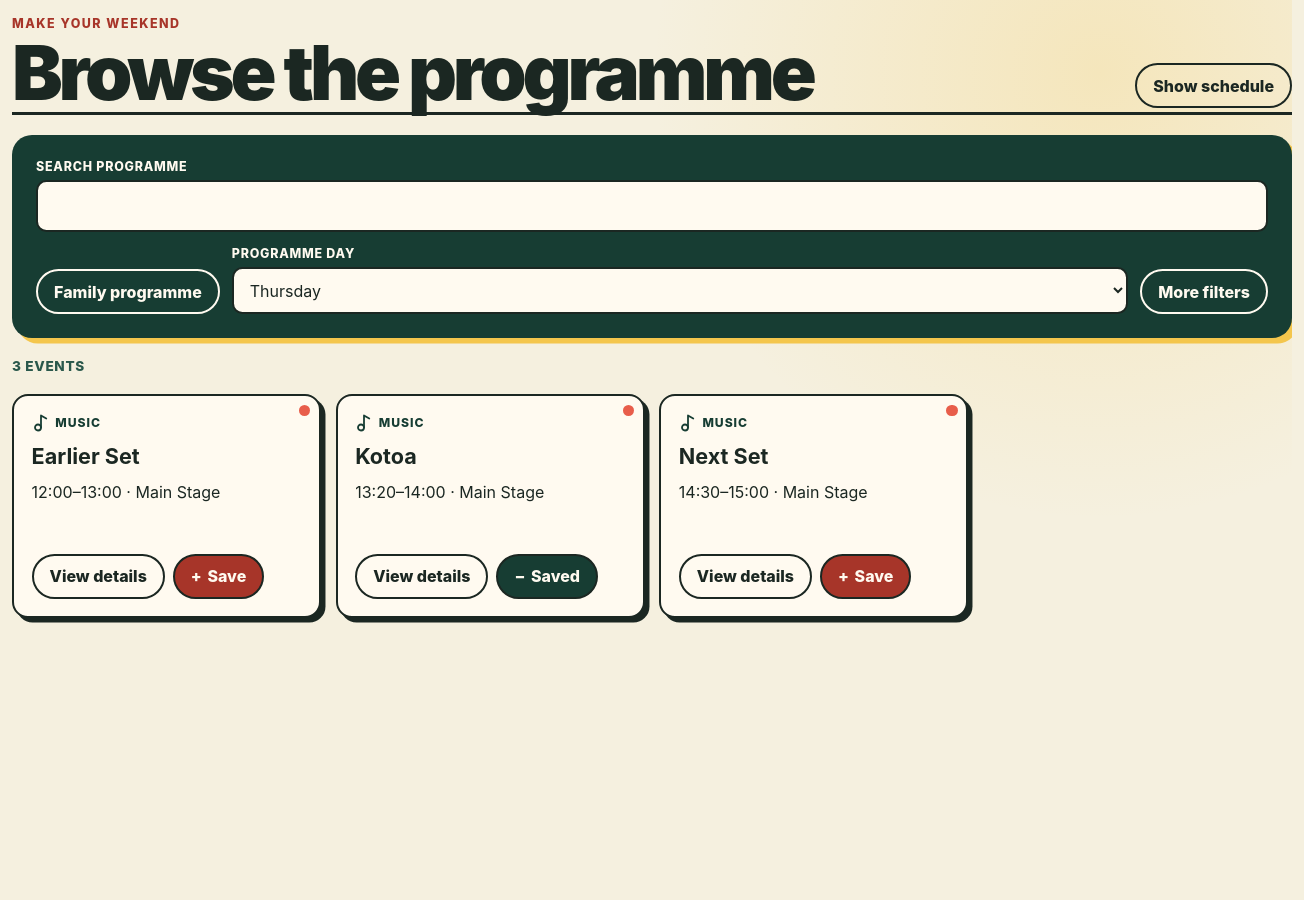
Scenario: BrowseView › renders a live phone day schedule with saved and earlier controls
Click the button "Show schedule": point(1214, 86) [1135,63,1292,108]
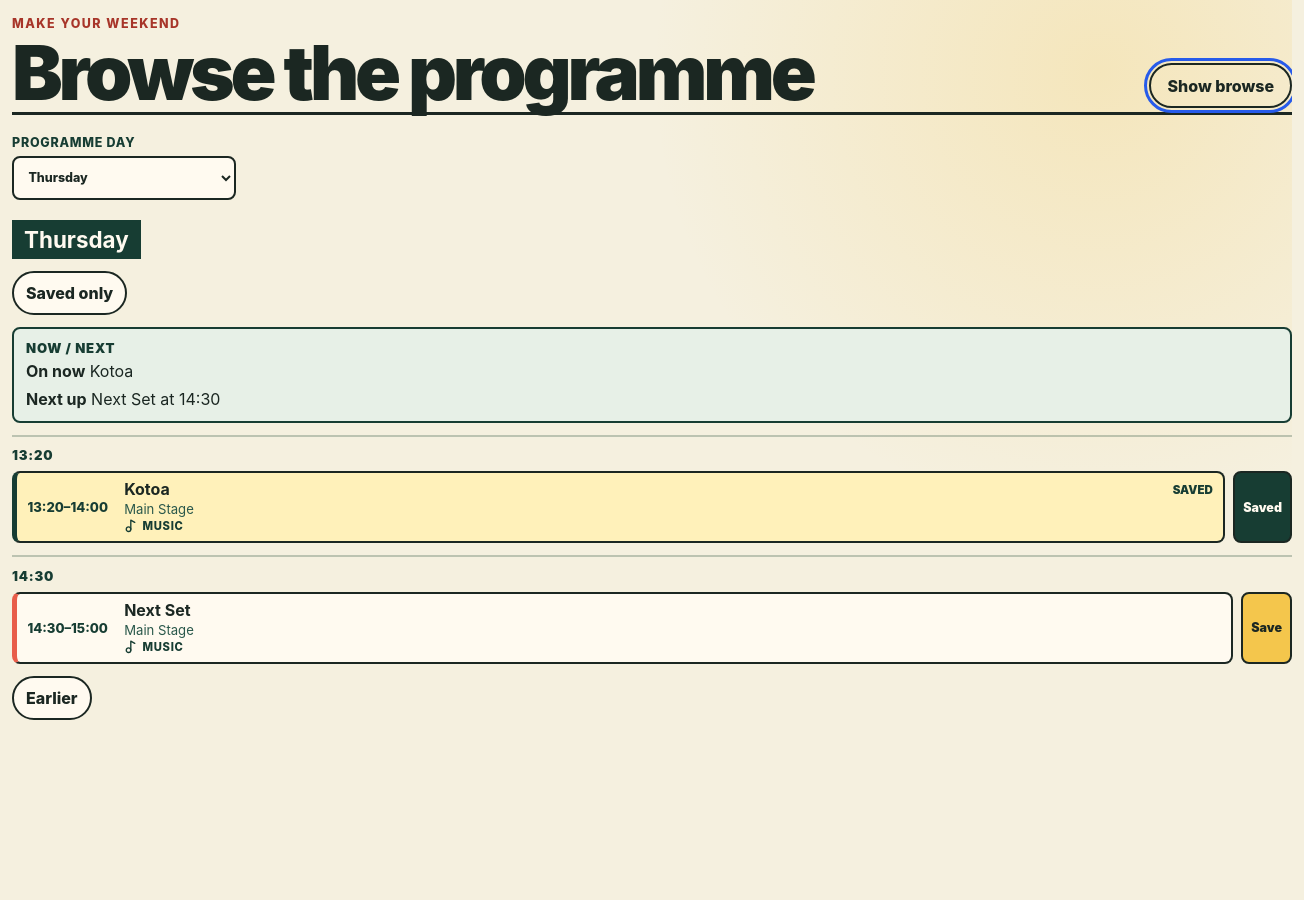
Now the heading "Now / next" is shown, box [26,340,115,356]
Now the text "On now" is shown, box [26,361,85,381]
Now the text "Next up" is shown, box [26,388,87,408]
Click the button "Saved only": point(70, 293) [12,271,127,315]
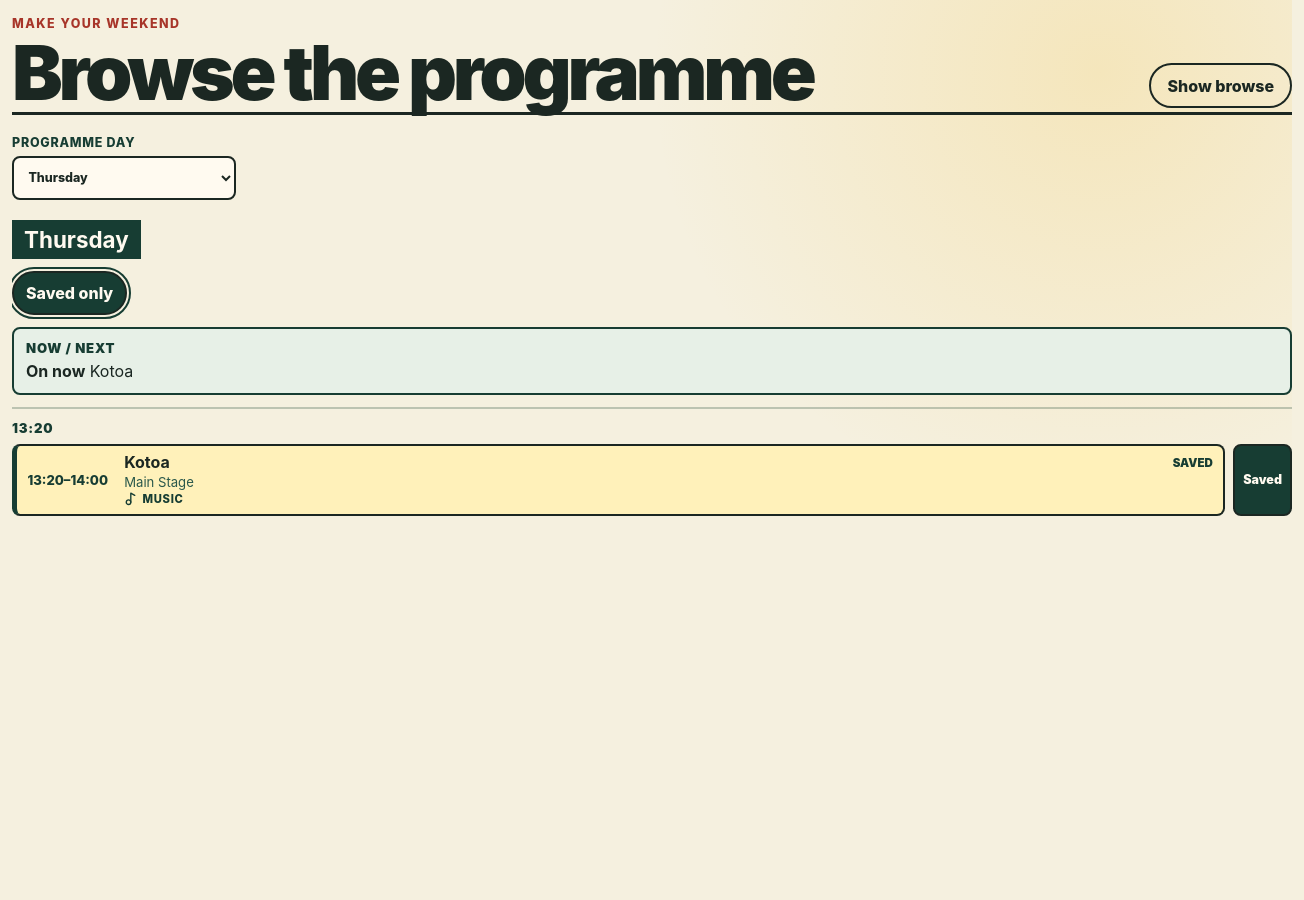
Expected: the text labelled "Search programme" is not shown
Click the button "Saved only": point(70, 293) [12,271,127,315]
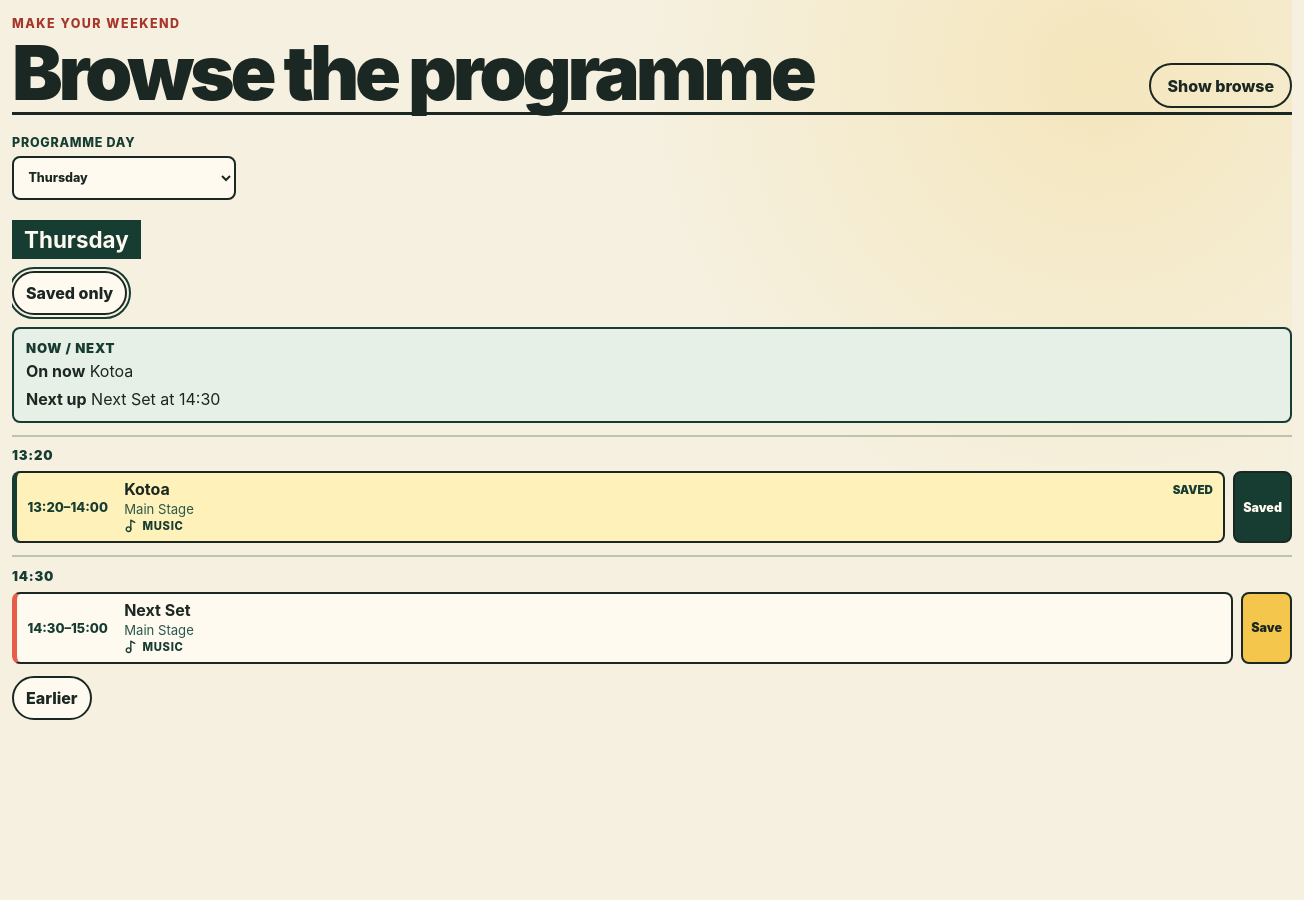
Click the button "Earlier": point(52, 698) [12,676,92,720]
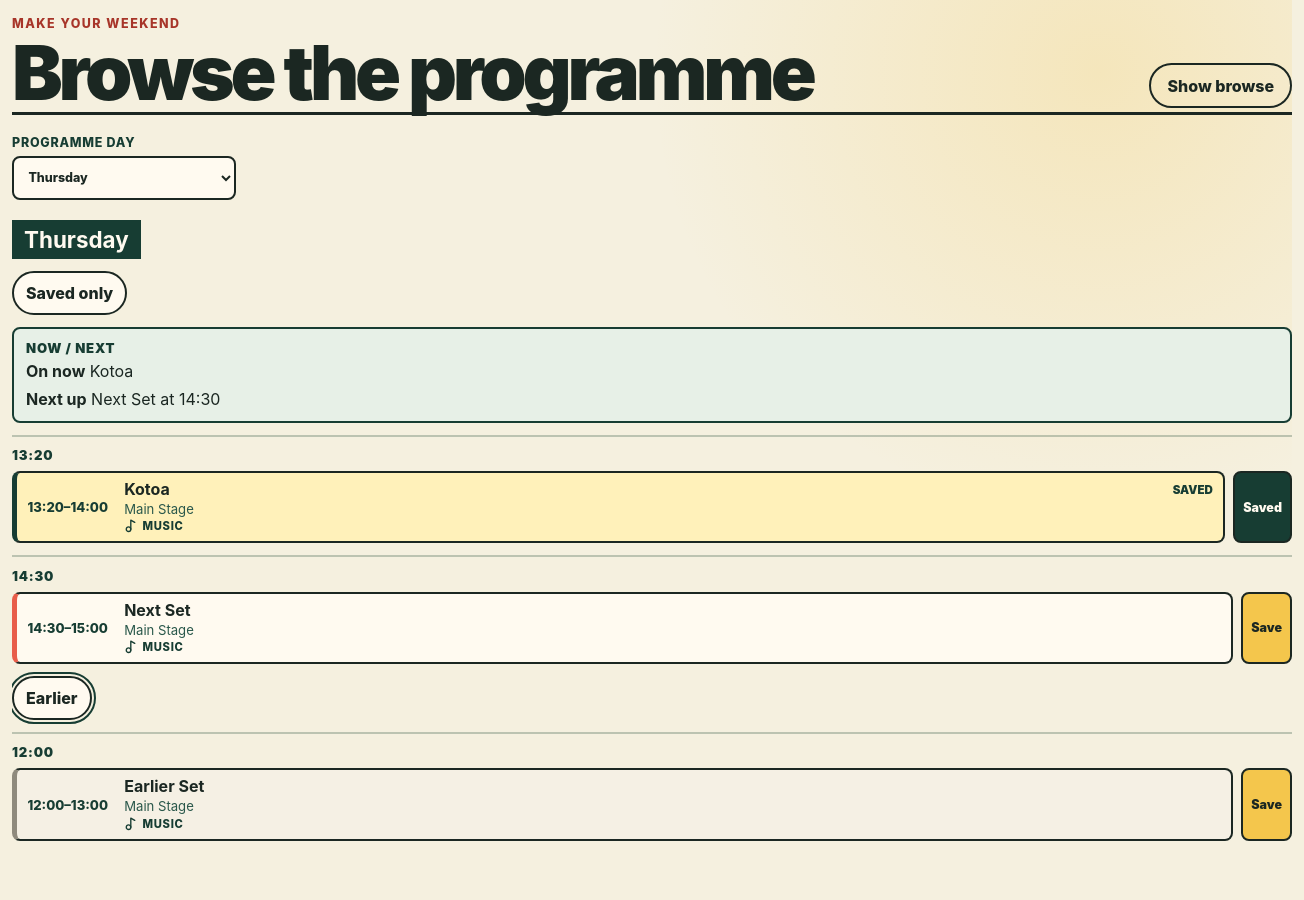
Now the button with aria-label "Earlier Set day schedule event" is shown, box [12,768,1233,841]
